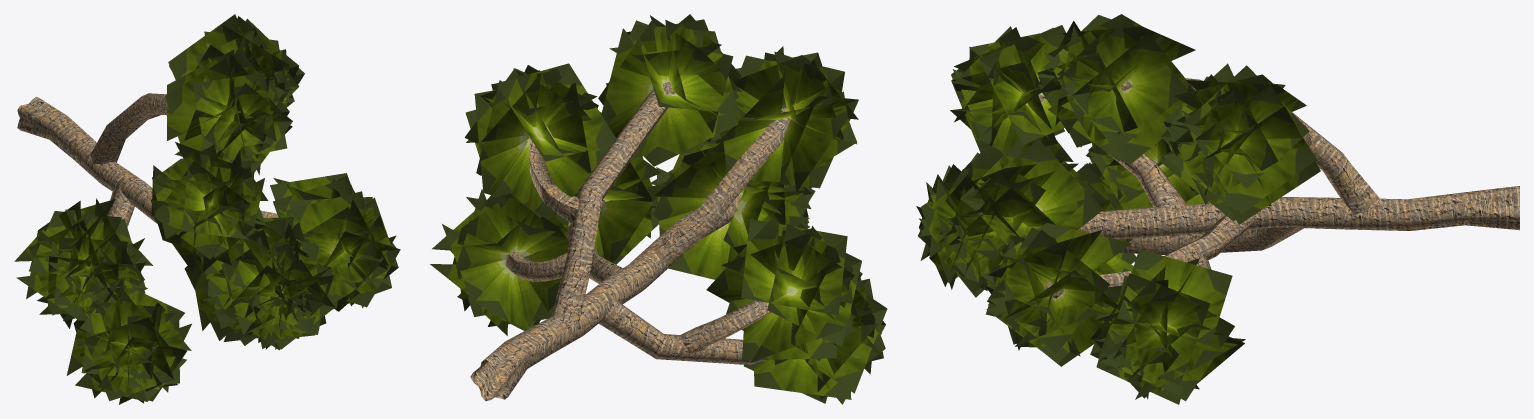
File: tree-3.gltf
3 renders of one model, left to right at view 1: azimuth 30°, elevation 25°; view 2: azimuth 150°, elevation 25°; view 3: azimuth 270°, elevation 25°, orthographic. The views are drawn at different scales.
Parts seen in each view (by area): view 1: tree.011; view 2: tree.011; view 3: tree.011.
Part boxes in pixels (bbox=[...]): tree.011: bbox=[14, 14, 400, 404]; tree.011: bbox=[430, 14, 887, 404]; tree.011: bbox=[916, 14, 1519, 404].
Bounding box in the file's own units: 3.32 × 2.84 × 4.33.
Materials: 1 (1 with a texture image).
